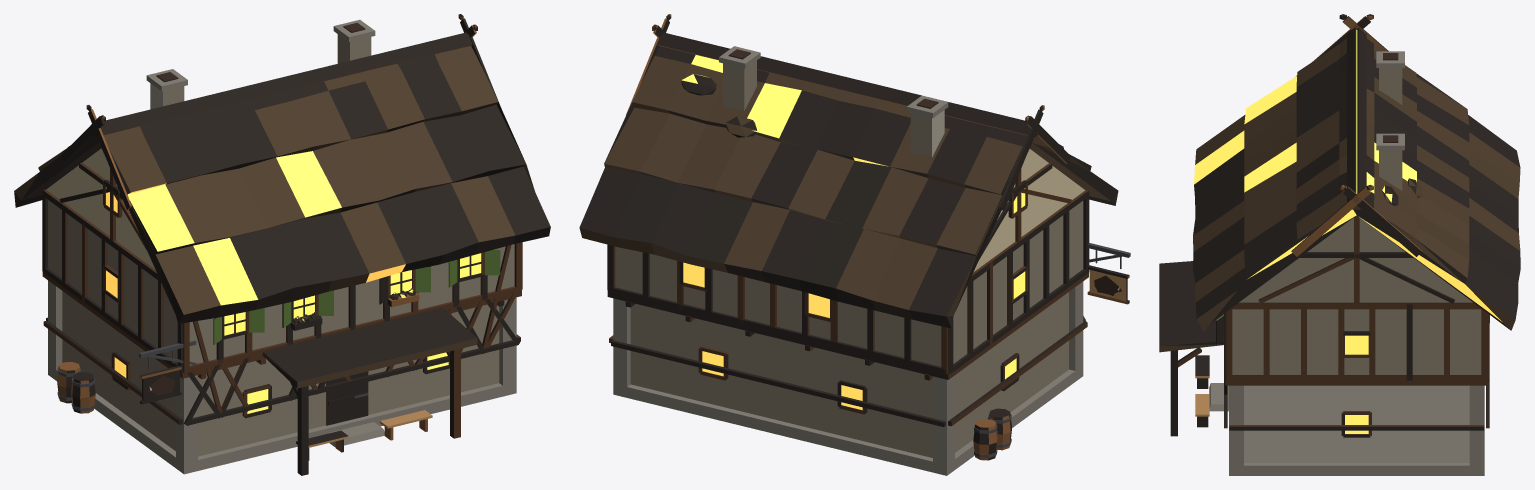
File: Dorf_Taverne_Beschaedigt.fbx
3 views of the same model, side by side, from view 1: azimuth 30°, elevation 25°; view 2: azimuth 150°, elevation 25°; view 3: azimuth 270°, elevation 25° (orthographic). The views are drawn at different scales.
Parts seen in each view (by area): view 1: Dorf_Taverne_Beschaedigt; view 2: Dorf_Taverne_Beschaedigt; view 3: Dorf_Taverne_Beschaedigt.
Part boxes in pixels (bbox=[...]): Dorf_Taverne_Beschaedigt: bbox=[14, 14, 550, 475]; Dorf_Taverne_Beschaedigt: bbox=[579, 14, 1130, 475]; Dorf_Taverne_Beschaedigt: bbox=[1159, 14, 1520, 475].
Bounding box in the file's own units: 11.51 × 8.87 × 9.61.
